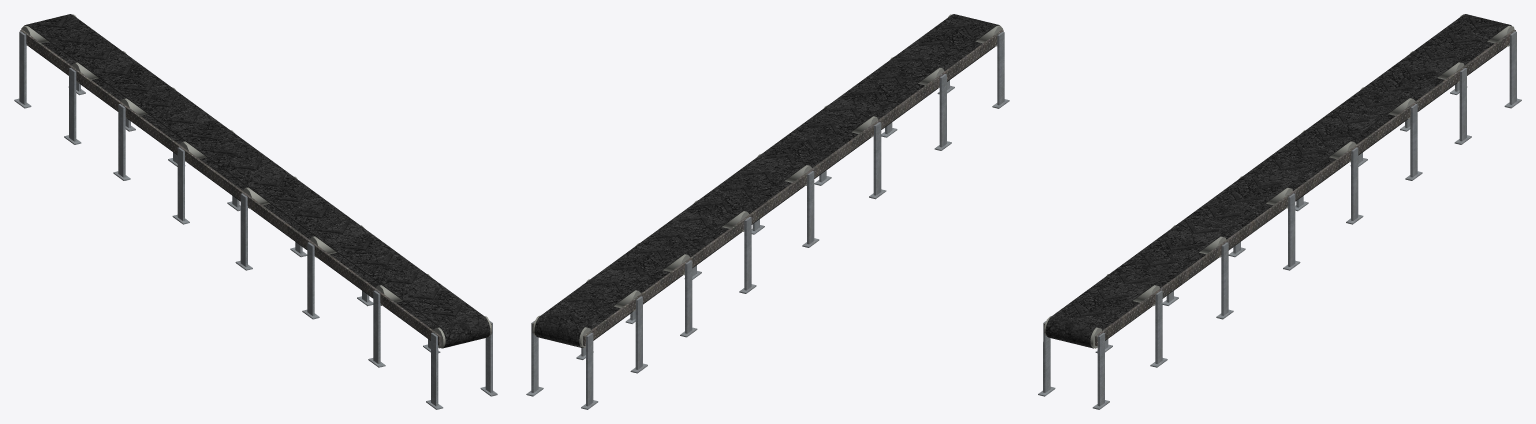
The model's file is conveyor-compressed.glb.
3 renders of one model, left to right at view 1: azimuth 30°, elevation 25°; view 2: azimuth 150°, elevation 25°; view 3: azimuth 330°, elevation 25°, orthographic.
Visible parts, largest first — view 1: Cylinder001_Material_#0_0; view 2: Cylinder001_Material_#0_0; view 3: Cylinder001_Material_#0_0.
Boxes of the visible parts, x1=… form: Cylinder001_Material_#0_0: x1=14, y1=14, x2=497, y2=409; Cylinder001_Material_#0_0: x1=526, y1=14, x2=1009, y2=409; Cylinder001_Material_#0_0: x1=1038, y1=14, x2=1521, y2=409.
Size of the model in its own units: 11.02 by 13.48 by 132.
1 material, 1 textured.
